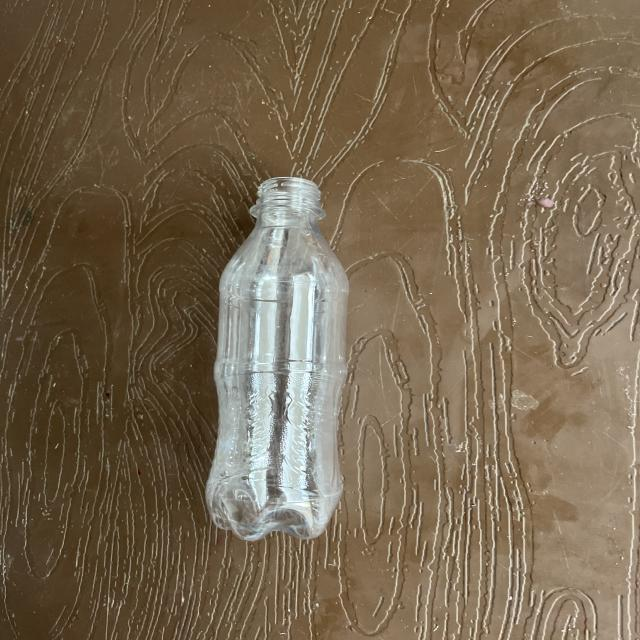PET_ClearBottle: (195, 180, 368, 540)
